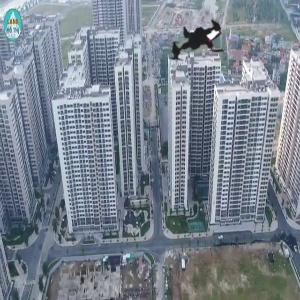drone: (154, 1, 245, 92)
